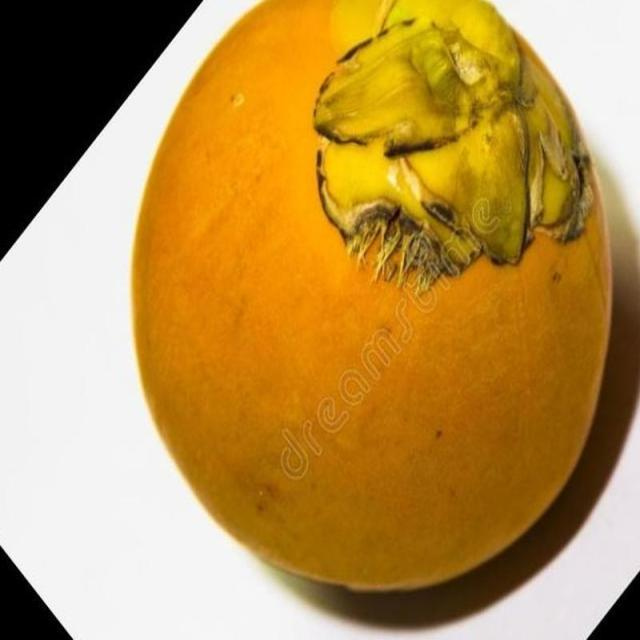good: (128, 0, 614, 597)
